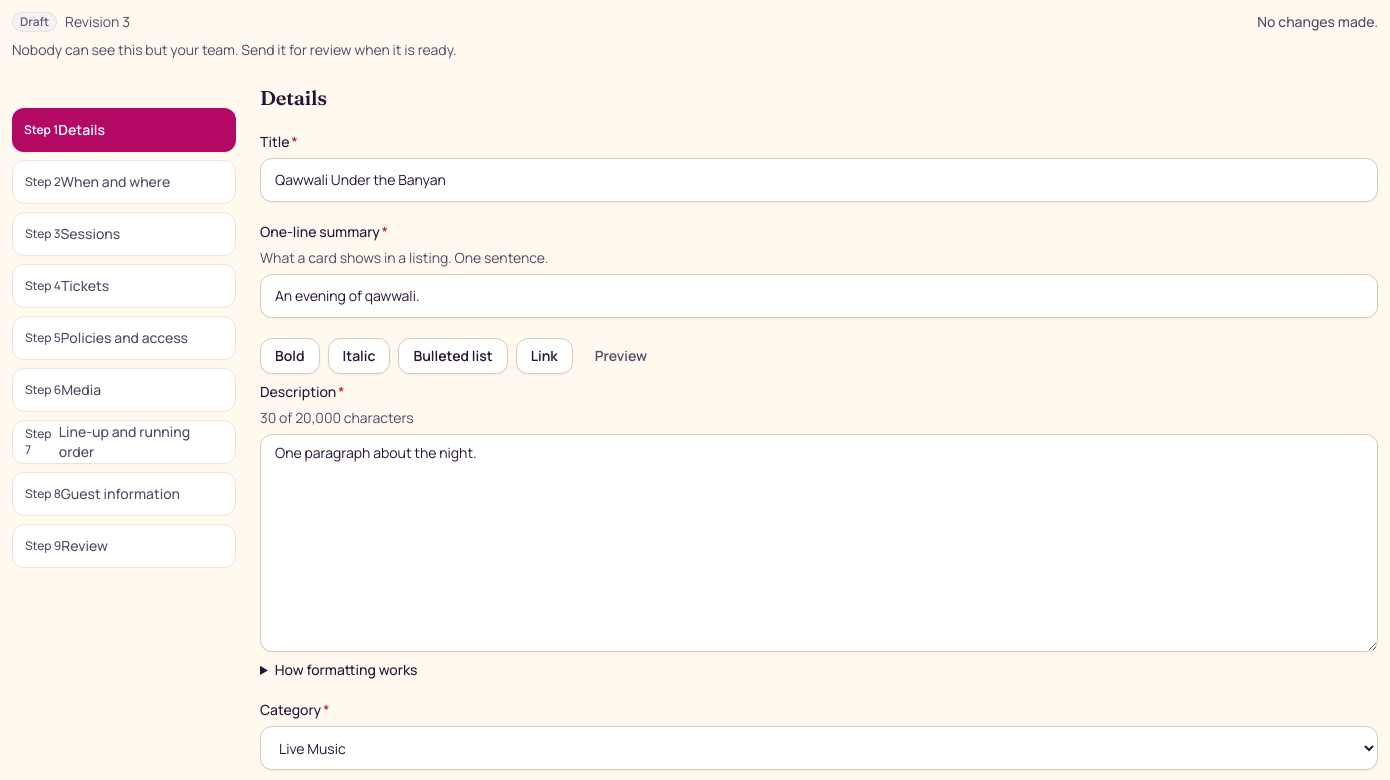
what the editor says about saving › notices an unsaved change before it saves it
In the field labelled "Title*": (819, 180) top-left (260, 158), bottom-right (1378, 202), type "!"
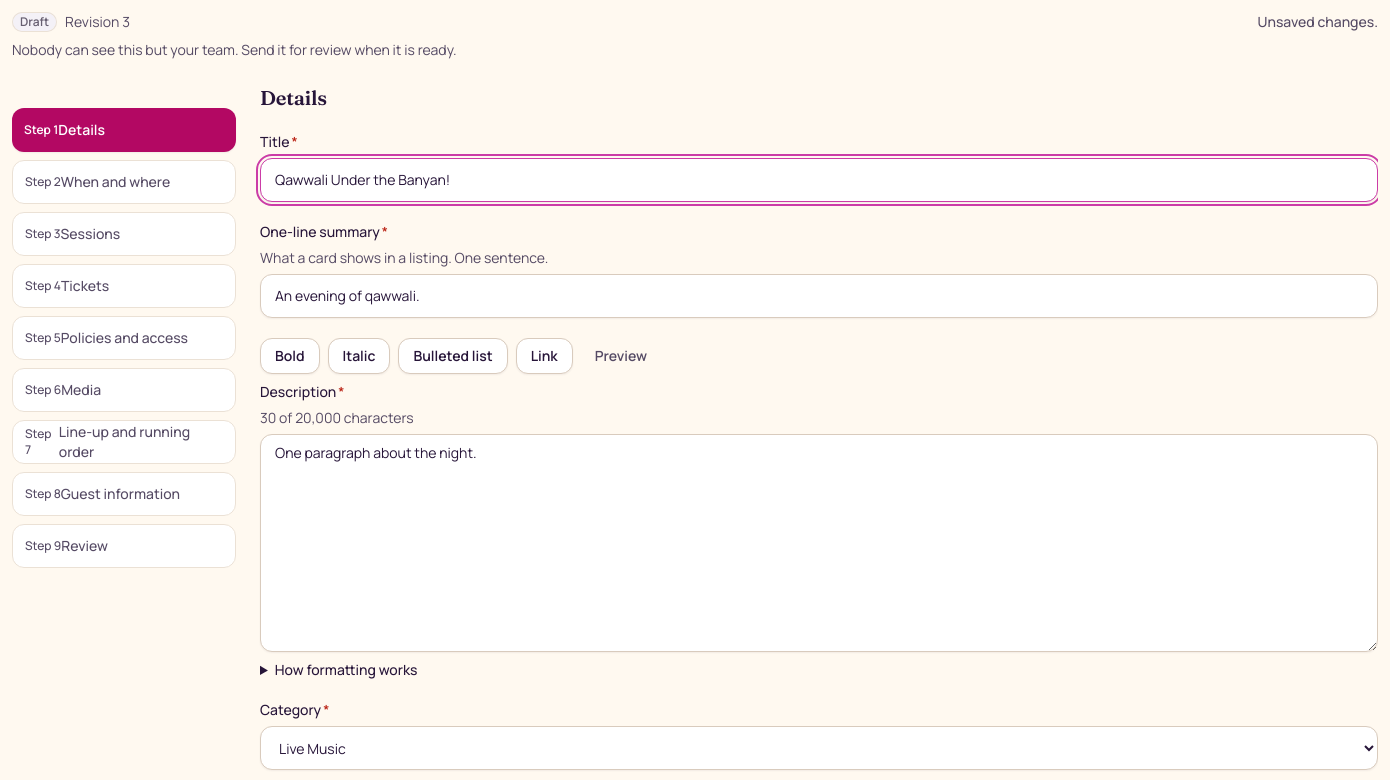
Expected: the message with test id "save-status" reads "Unsaved changes.", top-left (1258, 12), bottom-right (1378, 31)
